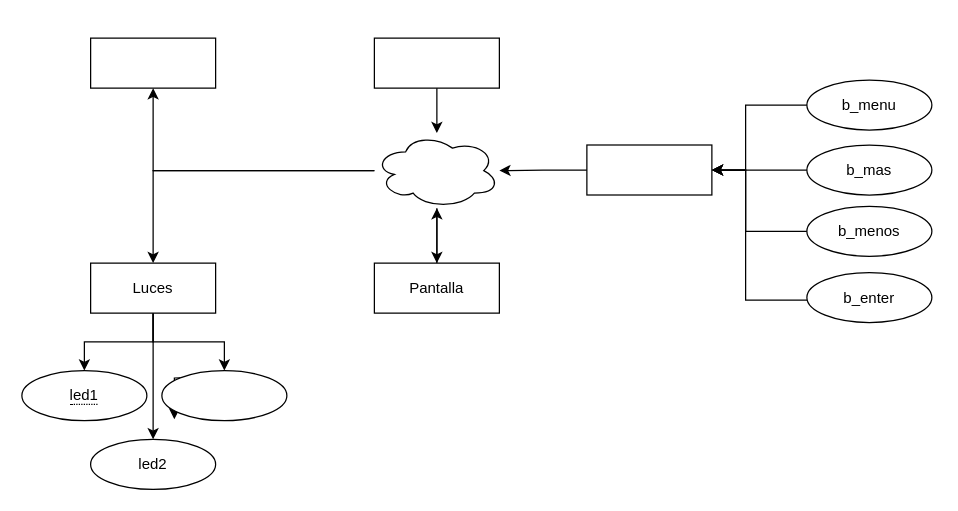
This 958x511 diagram has some shape labels left out. Each missing label, with the centre of its shape:
botones: the point at 649,169
Buzzer: the point at 152,62
led3: the point at 224,395
Reloj Sistema: the point at 436,62
